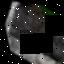Morning glory: (1, 0, 64, 64)
